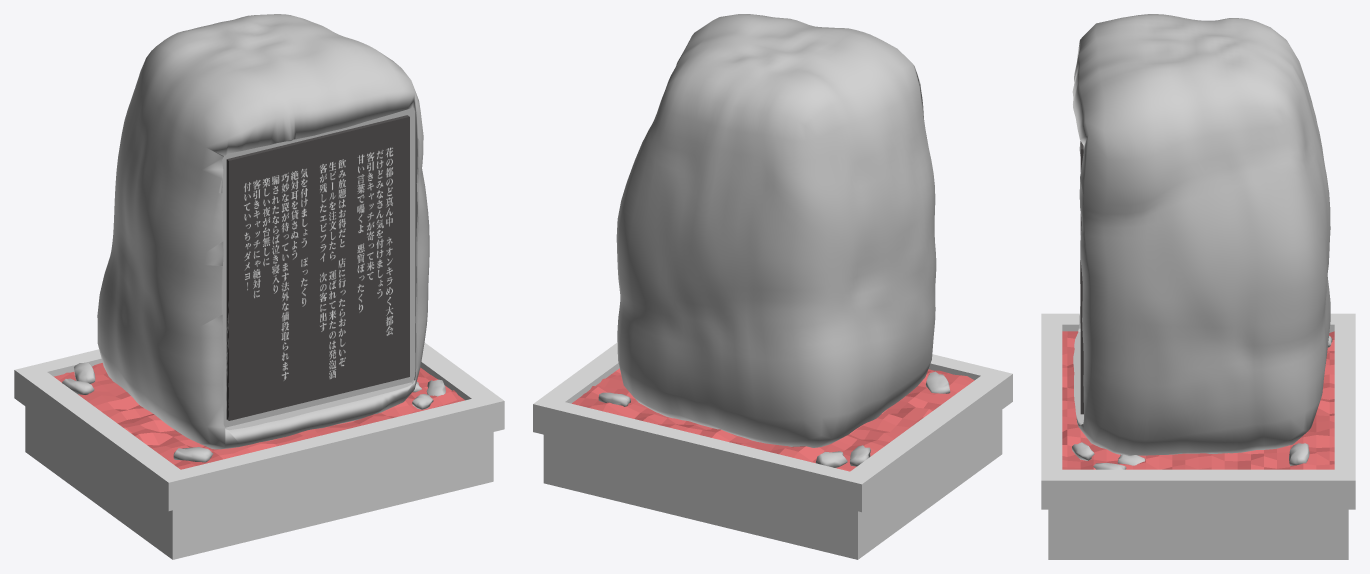
Rendered from stone.fbx.
3 views of the same model, side by side, from view 1: azimuth 30°, elevation 25°; view 2: azimuth 150°, elevation 25°; view 3: azimuth 270°, elevation 25° (orthographic). The views are drawn at different scales.
Visible parts, largest first — view 1: stone_stnand.001; view 2: stone_stnand.001; view 3: stone_stnand.001.
Part boxes in pixels (x1,y1,x2,y2): stone_stnand.001: (14,14,504,559); stone_stnand.001: (533,14,1012,559); stone_stnand.001: (1041,14,1355,559).
Size of the model in its own units: 169 by 206 by 134.
